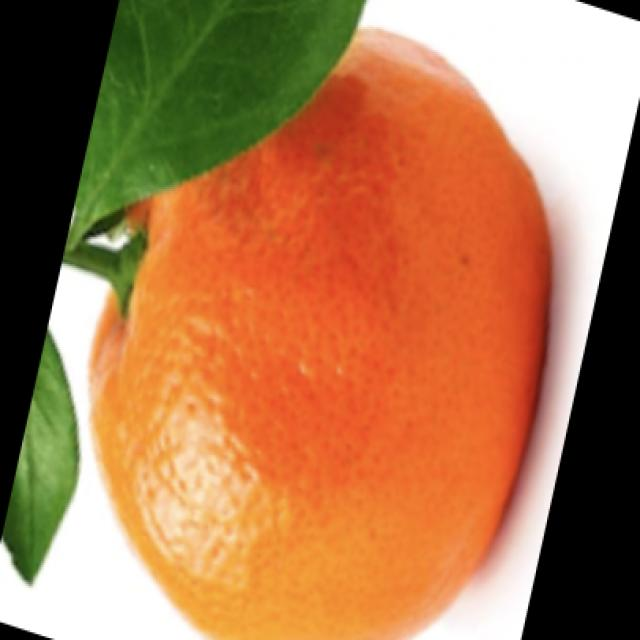fresh: (31, 9, 562, 640)
